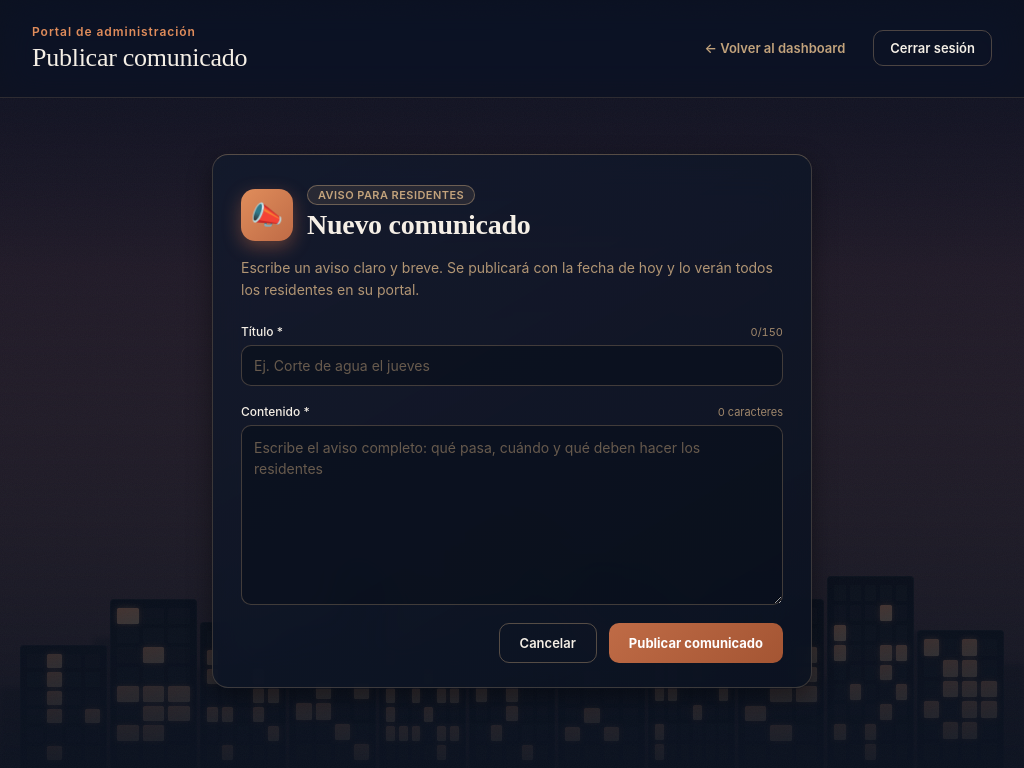
CU-10 PublicarComunicadoPage › sin conexión: avisa del problema de red
Type "Corte de agua" into the field labelled "Título *".
click(512, 366); type("Corte de agua")  # box [241,345,783,386]
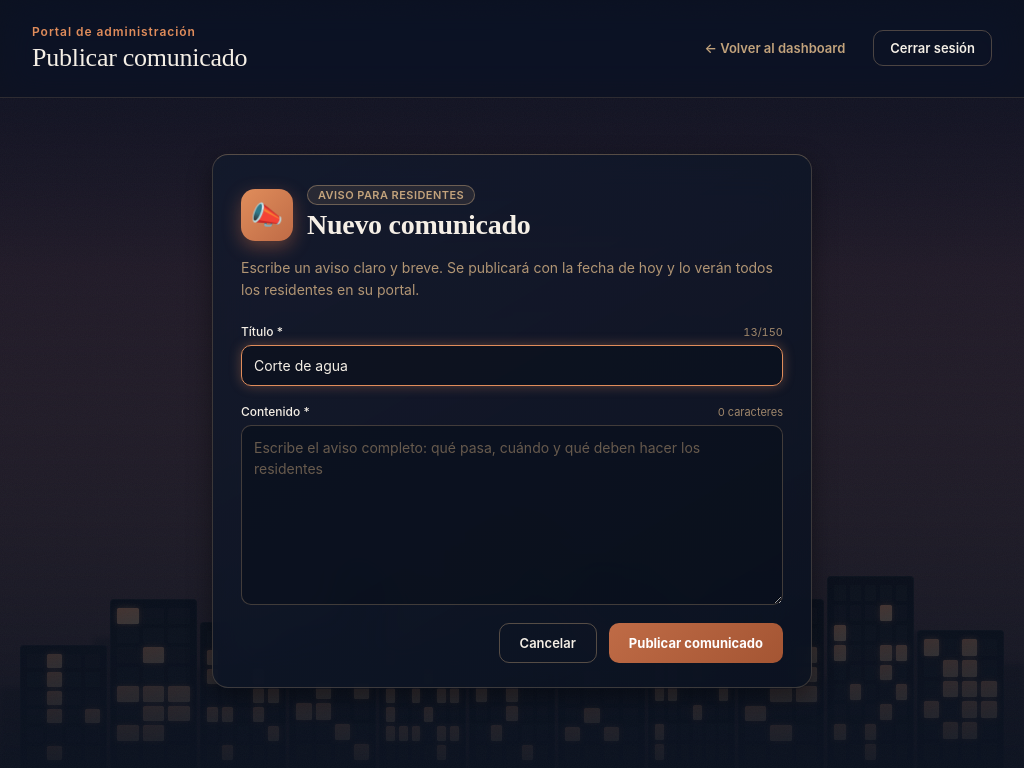
Type "El jueves de 9 a 13 h" into the text box labelled "Contenido *".
click(512, 515); type("El jueves de 9 a 13 h")  # box [241,425,783,605]
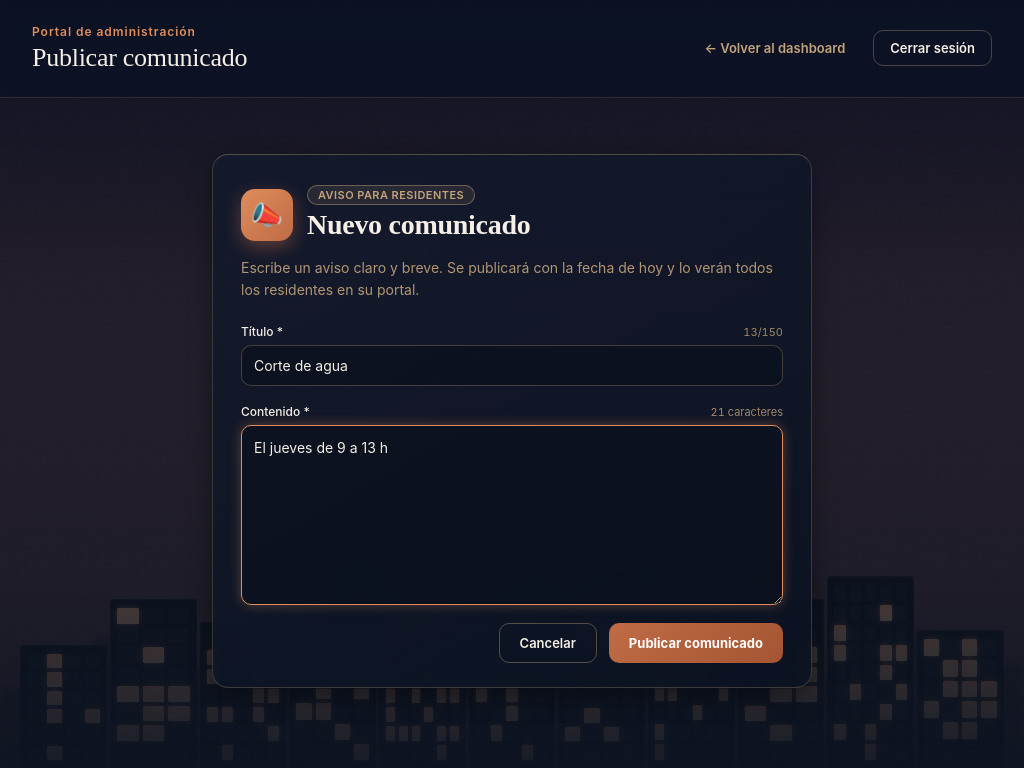
Click the button "Publicar comunicado".
click(696, 643)  # box [609,623,783,663]
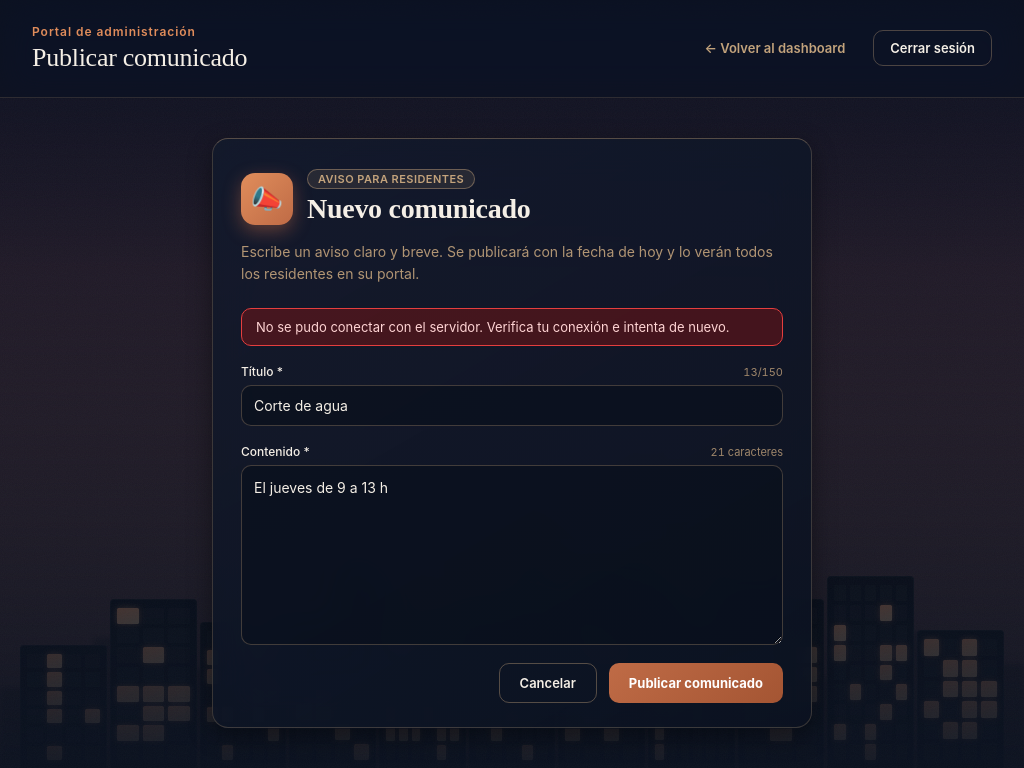
Result: the message shows "No se pudo conectar con el servidor" at [256,320,730,336]
